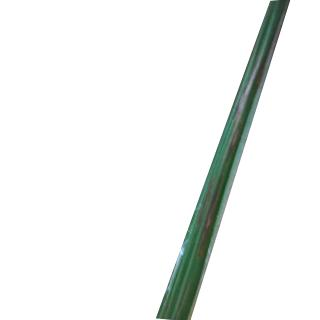Hawar-Daun: (189, 22, 282, 265)
